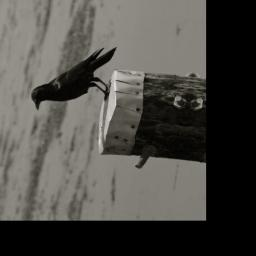Crow: (26, 36, 122, 119)
